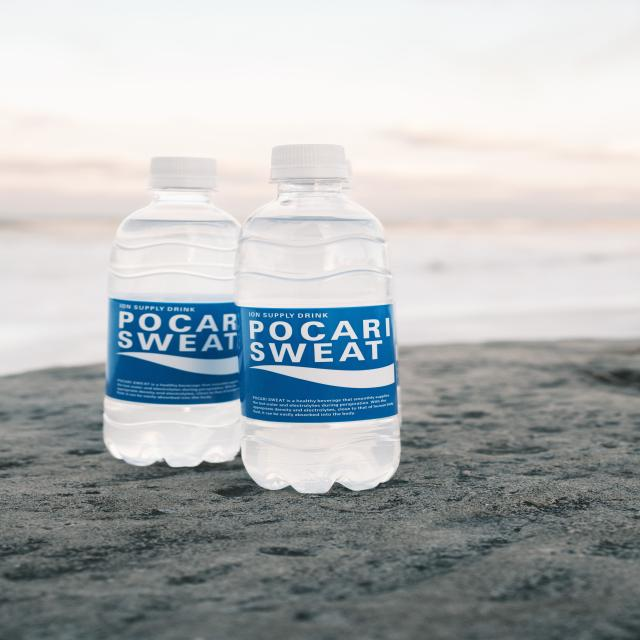Bottle: (235, 145, 400, 493), (104, 158, 239, 466)
